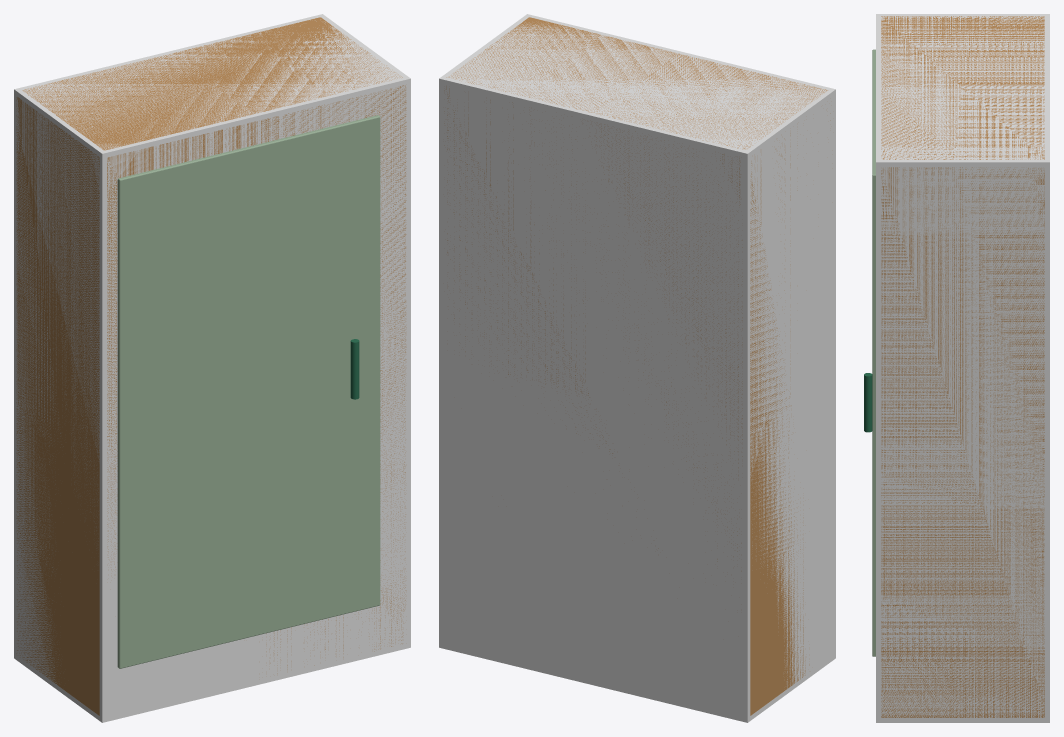
File: filing-cabinet_retail.glb
3 views of the same model, side by side, from view 1: azimuth 30°, elevation 25°; view 2: azimuth 150°, elevation 25°; view 3: azimuth 270°, elevation 25° (orthographic).
Visible parts, largest first — view 1: MESH_Door_01, COL_filing-cabinet, MESH_CabinetCarcass; view 2: COL_filing-cabinet, MESH_CabinetCarcass; view 3: COL_filing-cabinet, MESH_CabinetCarcass, MESH_Door_01, MESH_Handle.
Boxes of the visible parts, bbox=[...] form: MESH_Door_01: bbox=[117, 115, 380, 668]; COL_filing-cabinet: bbox=[14, 14, 410, 722]; MESH_CabinetCarcass: bbox=[16, 17, 406, 715]; COL_filing-cabinet: bbox=[439, 14, 835, 722]; MESH_CabinetCarcass: bbox=[444, 17, 830, 715]; COL_filing-cabinet: bbox=[876, 14, 1049, 722]; MESH_CabinetCarcass: bbox=[881, 16, 1044, 717]; MESH_Door_01: bbox=[872, 49, 875, 656]; MESH_Handle: bbox=[864, 373, 872, 432].
Size of the model in its own units: 1.05 by 1.85 by 0.556.
